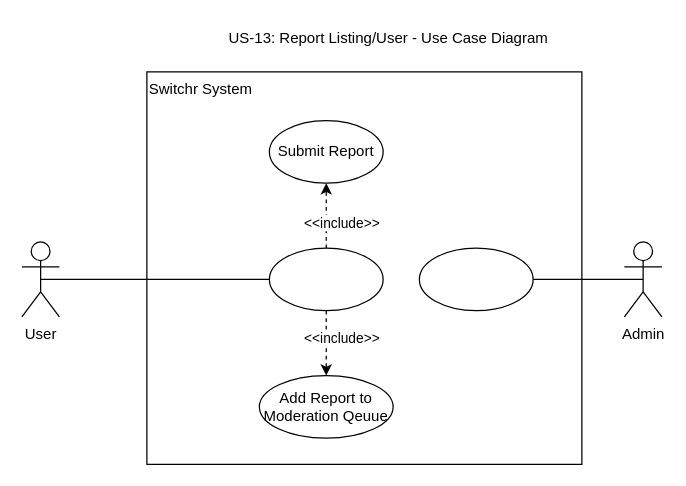
Image size: 686x486. Some labels were removed from this diagram. Each missing label, with the centre of its shape:
"Report Suspicious Content" goes at point 325,279.
"Review Reports" goes at point 475,279.
